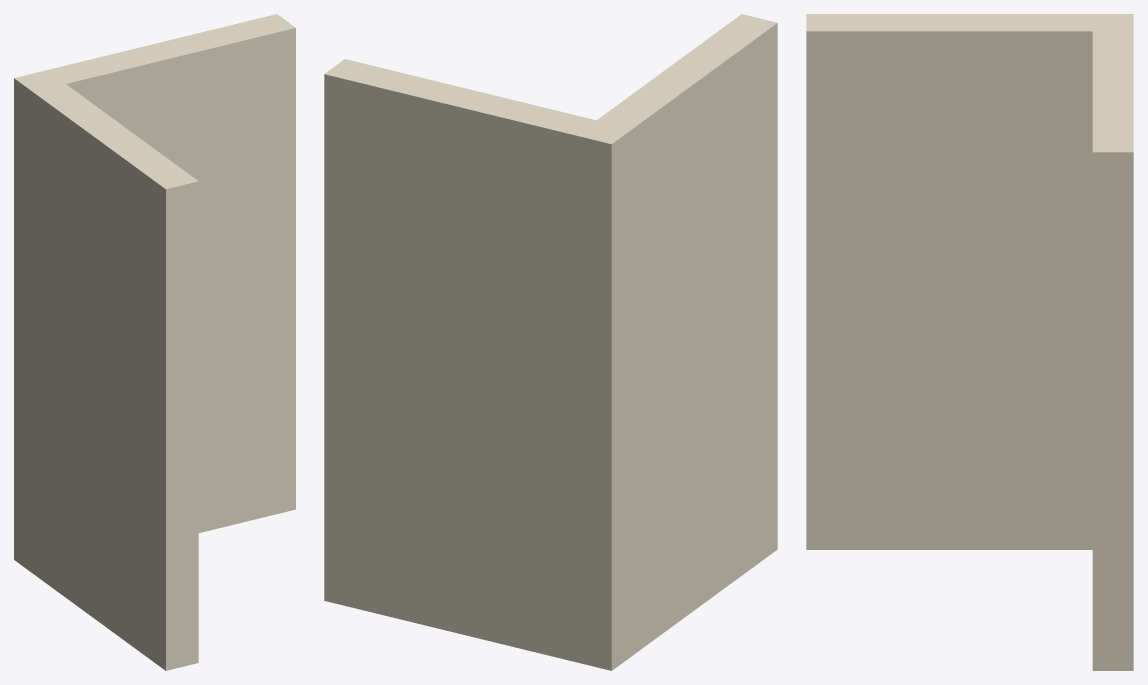
Rendered from kit_wall_corner.glb.
3 renders of one model, left to right at view 1: azimuth 30°, elevation 25°; view 2: azimuth 150°, elevation 25°; view 3: azimuth 270°, elevation 25°, orthographic. The views are drawn at different scales.
Visible parts, largest first — view 1: kit_wall_corner-col; view 2: kit_wall_corner-col; view 3: kit_wall_corner-col.
Part boxes in pixels (left/top/right/bottom): kit_wall_corner-col: left=14, top=14, right=295, bottom=670; kit_wall_corner-col: left=324, top=14, right=777, bottom=670; kit_wall_corner-col: left=806, top=14, right=1133, bottom=670.
Bounding box in the file's own units: 2 × 3.5 × 2.
